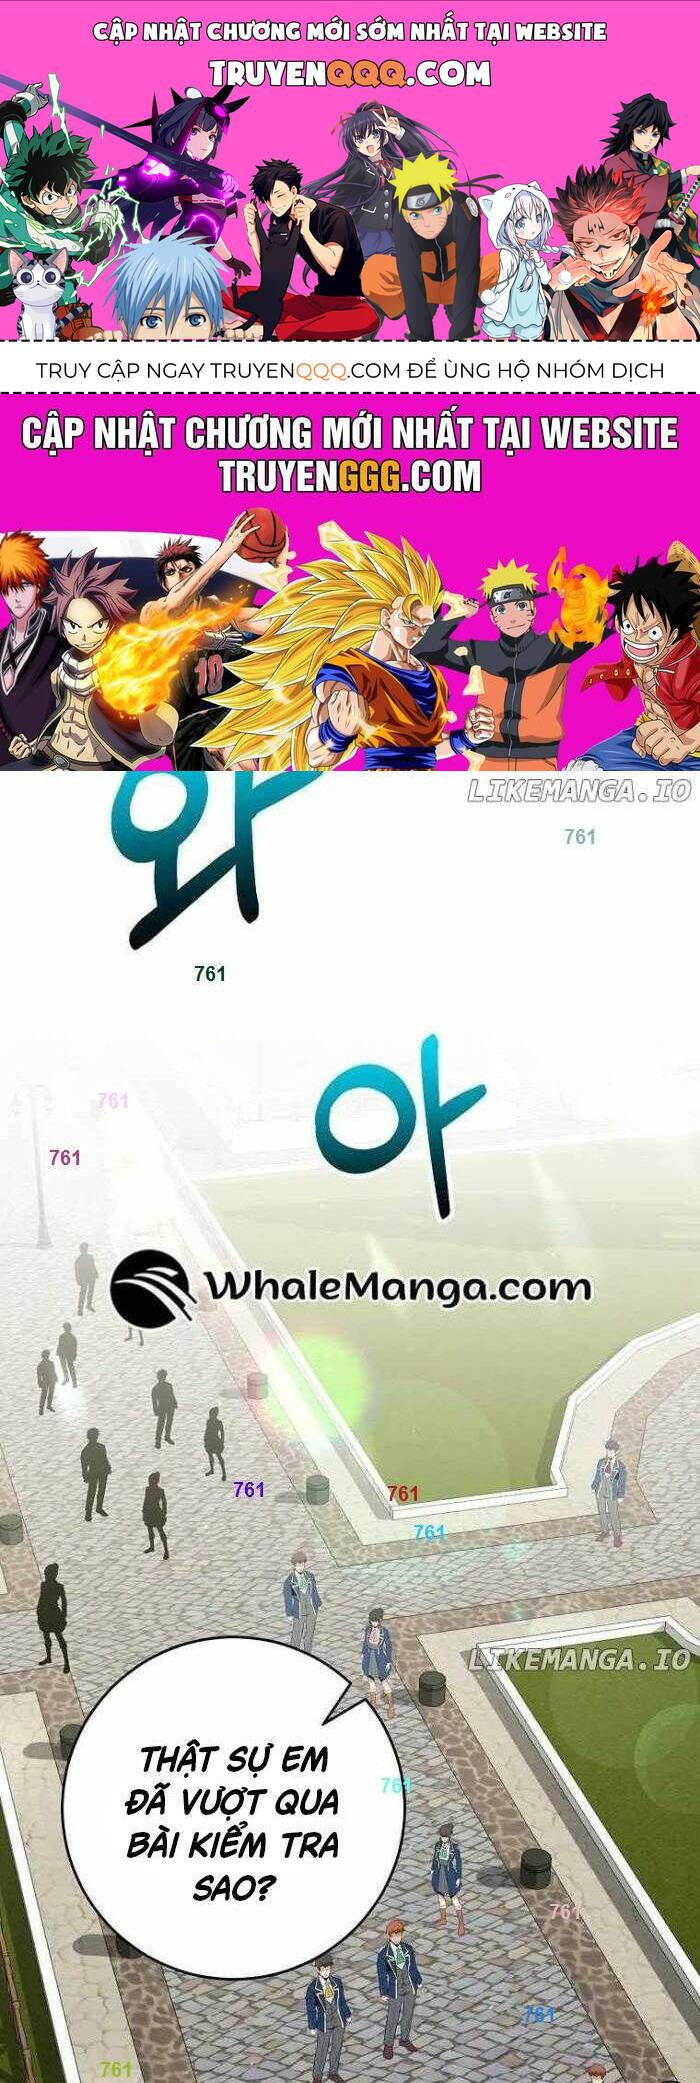quangcao: (0, 0, 700, 770)
